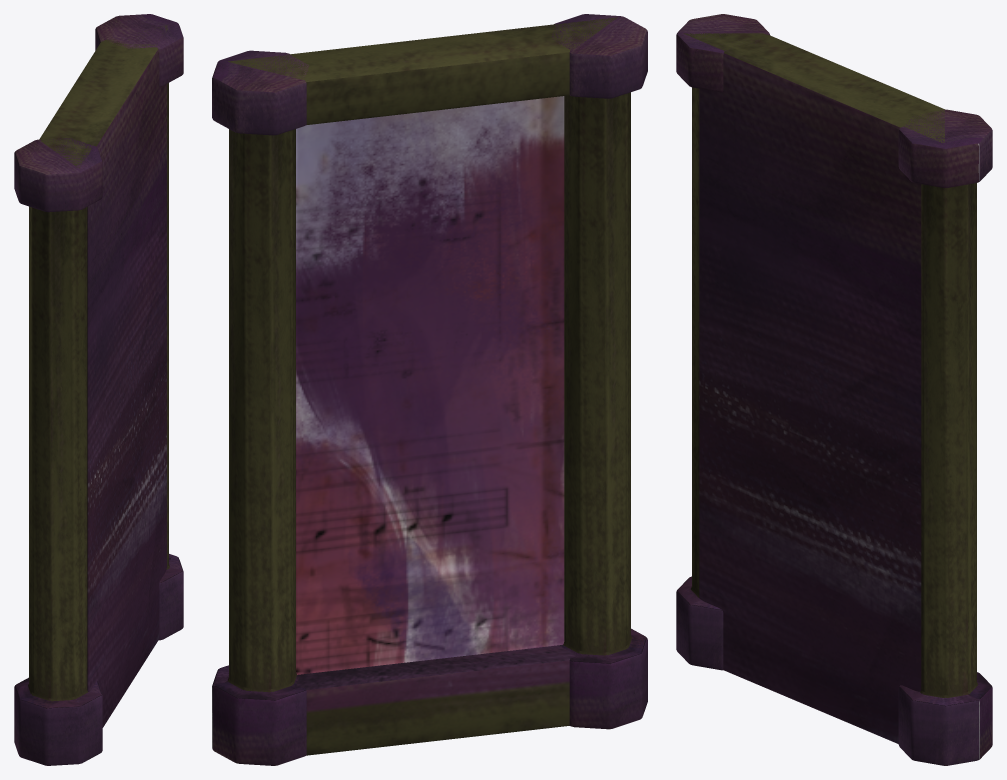
Rendered from MANOR_CORNER_003.obj.
The picture shows the model from 3 angles, left to right: view 1: azimuth 30°, elevation 25°; view 2: azimuth 150°, elevation 25°; view 3: azimuth 270°, elevation 25°; orthographic projection. The views are drawn at different scales.
Parts seen in each view (by area): view 1: MANOR_CORNER_003; view 2: MANOR_CORNER_003; view 3: MANOR_CORNER_003.
Part boxes in pixels (x1,y1,x2,y2): MANOR_CORNER_003: [14, 14, 183, 765]; MANOR_CORNER_003: [212, 14, 647, 765]; MANOR_CORNER_003: [676, 14, 992, 765].
Size of the model in its own units: 1.41 by 3 by 1.39.
